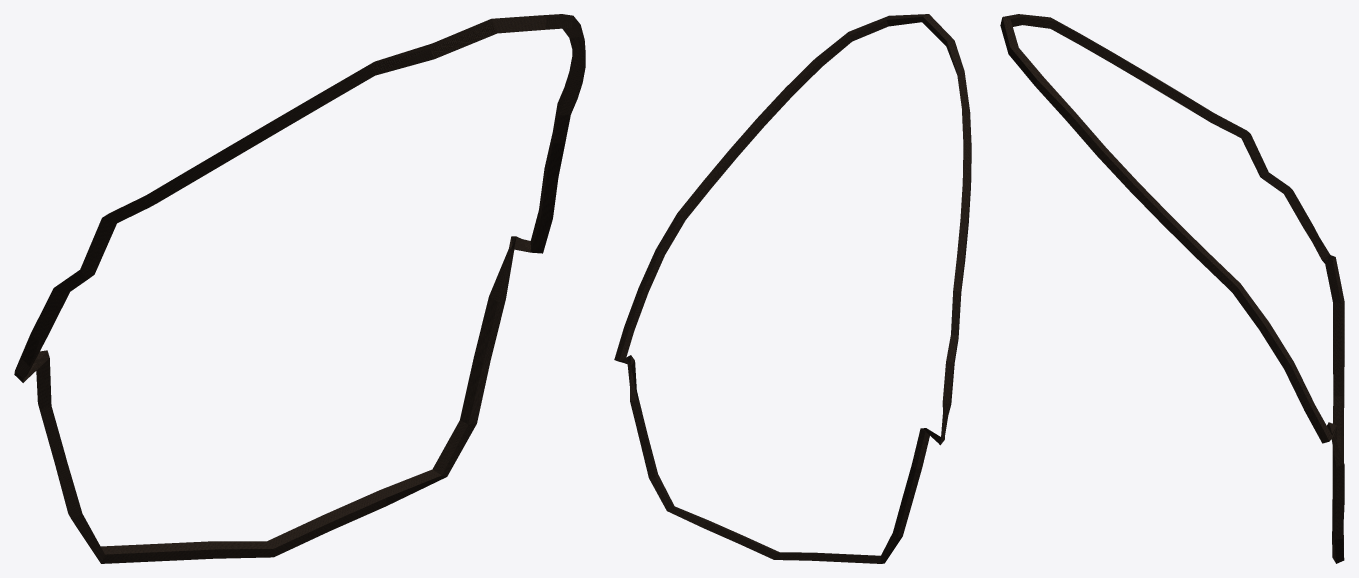
Rendered from necklace_cord.glb.
3 renders of one model, left to right at view 1: azimuth 30°, elevation 25°; view 2: azimuth 150°, elevation 25°; view 3: azimuth 270°, elevation 25°, orthographic. The views are drawn at different scales.
Visible parts, largest first — view 1: necklace_cord; view 2: necklace_cord; view 3: necklace_cord.
Part boxes in pixels (box(x1,y1,x2,y2)): necklace_cord: box(14, 14, 585, 563); necklace_cord: box(614, 14, 971, 563); necklace_cord: box(1000, 14, 1344, 563).
Bounding box in the file's own units: 0.1719 × 0.2198 × 0.1349.
Materials: 1 (1 with a texture image).
